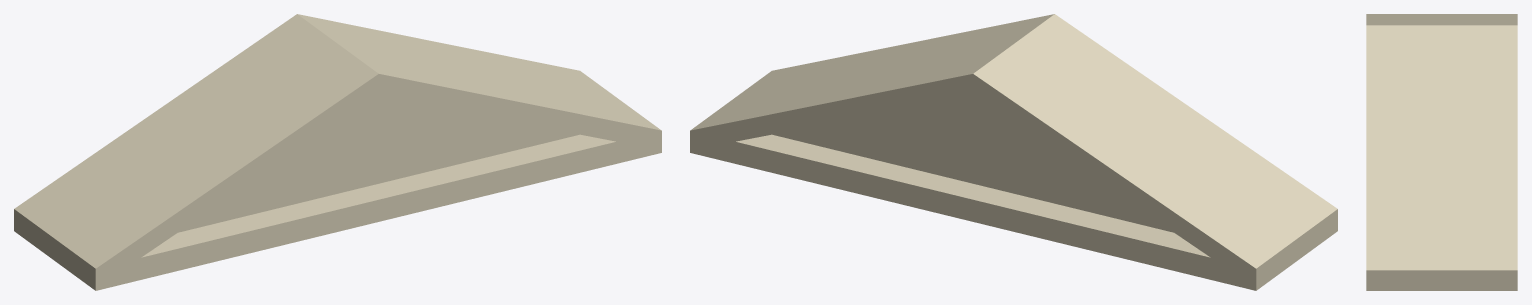
File: roman_roof_stone_rect.fbx
The picture shows the model from 3 angles, left to right: view 1: azimuth 30°, elevation 25°; view 2: azimuth 150°, elevation 25°; view 3: azimuth 270°, elevation 25°; orthographic projection. The views are drawn at different scales.
Visible parts, largest first — view 1: Cube.001; view 2: Cube.001; view 3: Cube.001.
Boxes of the visible parts, box(x1,y1,x2,y2) form: Cube.001: box(14, 14, 661, 290); Cube.001: box(690, 14, 1337, 290); Cube.001: box(1366, 14, 1517, 290).
Bounding box in the file's own units: 8 × 2 × 2.
